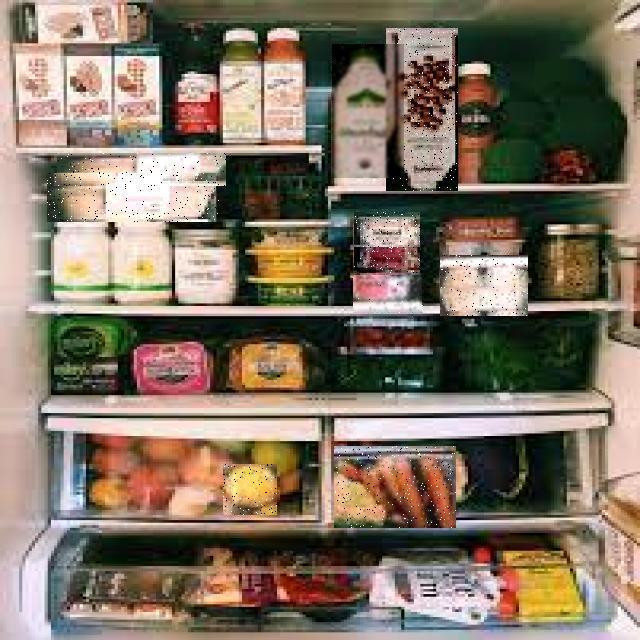carrot: (106, 264, 562, 640)
cheese: (142, 157, 566, 471), (144, 136, 564, 410), (144, 124, 564, 370)
egg: (176, 158, 640, 474)
milk: (157, 96, 615, 286), (130, 89, 534, 267)
